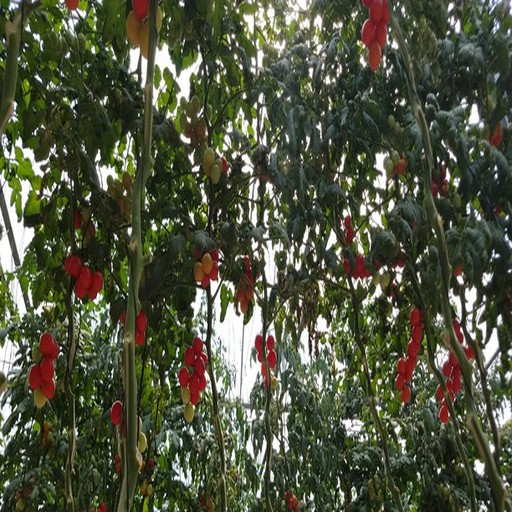green tomato bunch: (180, 94, 224, 181), (108, 404, 150, 469), (127, 1, 161, 67), (101, 172, 138, 218)
mixed tomato bunch: (383, 115, 451, 201)
red tomato bunch: (436, 314, 475, 426), (333, 214, 379, 277), (395, 309, 424, 407), (178, 336, 208, 422), (25, 333, 59, 407), (360, 1, 391, 69), (63, 254, 103, 301), (256, 334, 283, 393), (192, 242, 220, 289), (235, 256, 257, 313), (117, 305, 148, 344)
